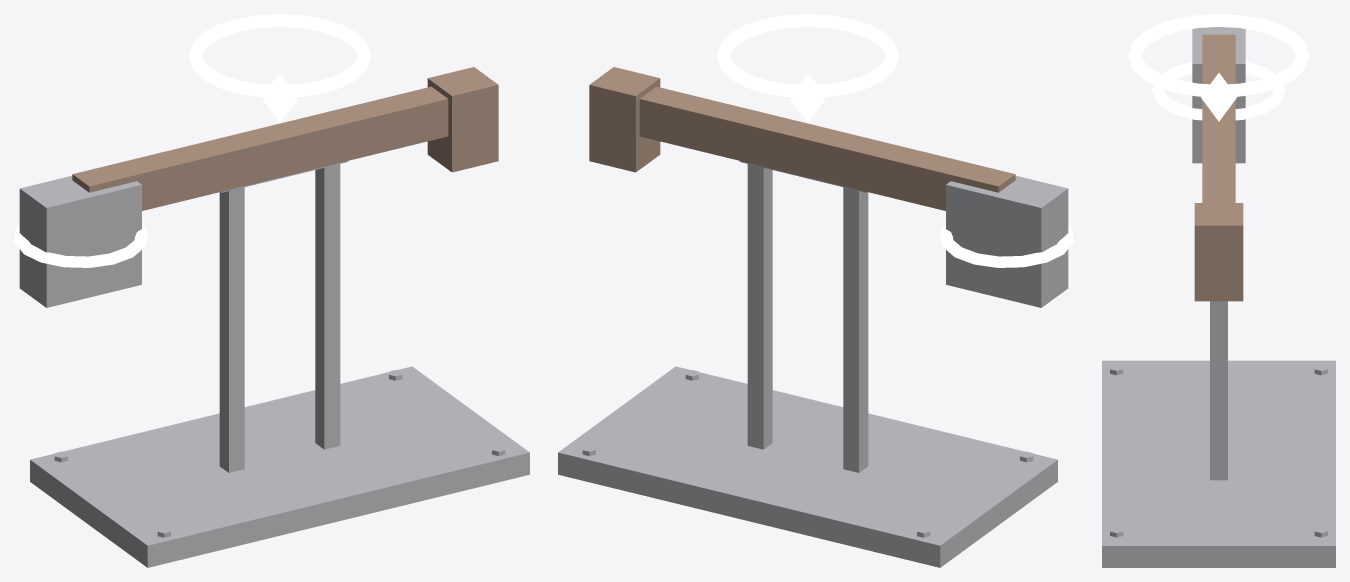
Rendered from pump_jack_divine.glb.
The picture shows the model from 3 angles, left to right: view 1: azimuth 30°, elevation 25°; view 2: azimuth 150°, elevation 25°; view 3: azimuth 270°, elevation 25°; orthographic projection.
Visible parts, largest first — view 1: pump_jack, beam; view 2: pump_jack, beam; view 3: pump_jack, beam.
Boxes of the visible parts, x1,y1,x2,y2 form: pump_jack: [14, 14, 529, 567]; beam: [72, 86, 448, 210]; pump_jack: [558, 14, 1073, 567]; beam: [639, 86, 1015, 210]; pump_jack: [1102, 14, 1335, 567]; beam: [1202, 34, 1235, 202].
Bounding box in the file's own units: 3.5 × 3.09 × 1.54.
